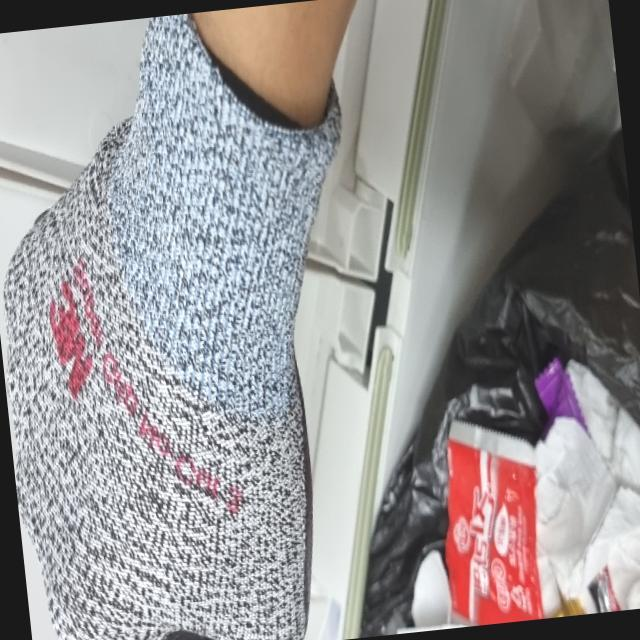Gloves: (4, 1, 347, 640)
